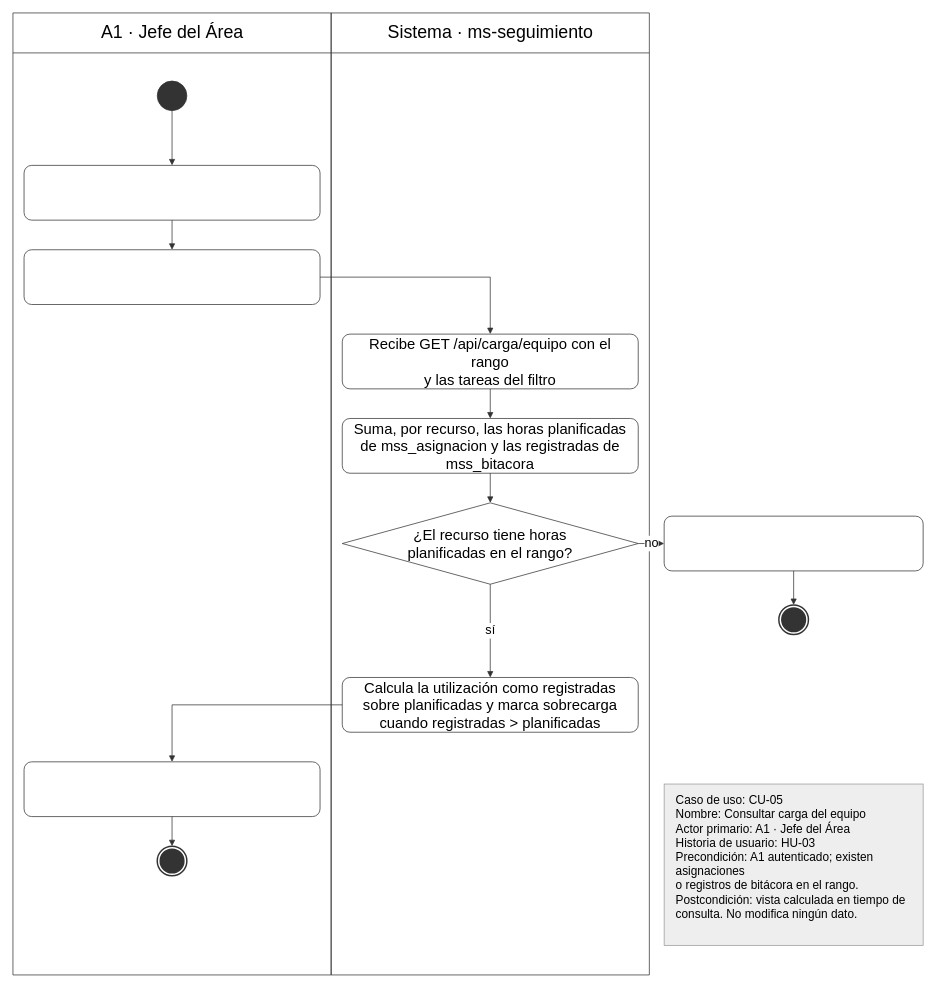
Some shapes in this 936 by 988 pixel diagram are drawn without their labels. The shapes that lost their labels are listed below. From the top down, each one's centre as x and y in pixels, then its label:
At (171,192): "Accede al módulo «Carga del equipo»".
At (171,277): "Indica el rango de fechas y, si lo desea, filtra por proyecto".
At (793,543): "Utilización 0 % y sin marca de sobrecarga, aunque tenga horas registradas".
At (171,789): "Visualiza la carga del equipo y detecta los recursos en sobrecarga".
